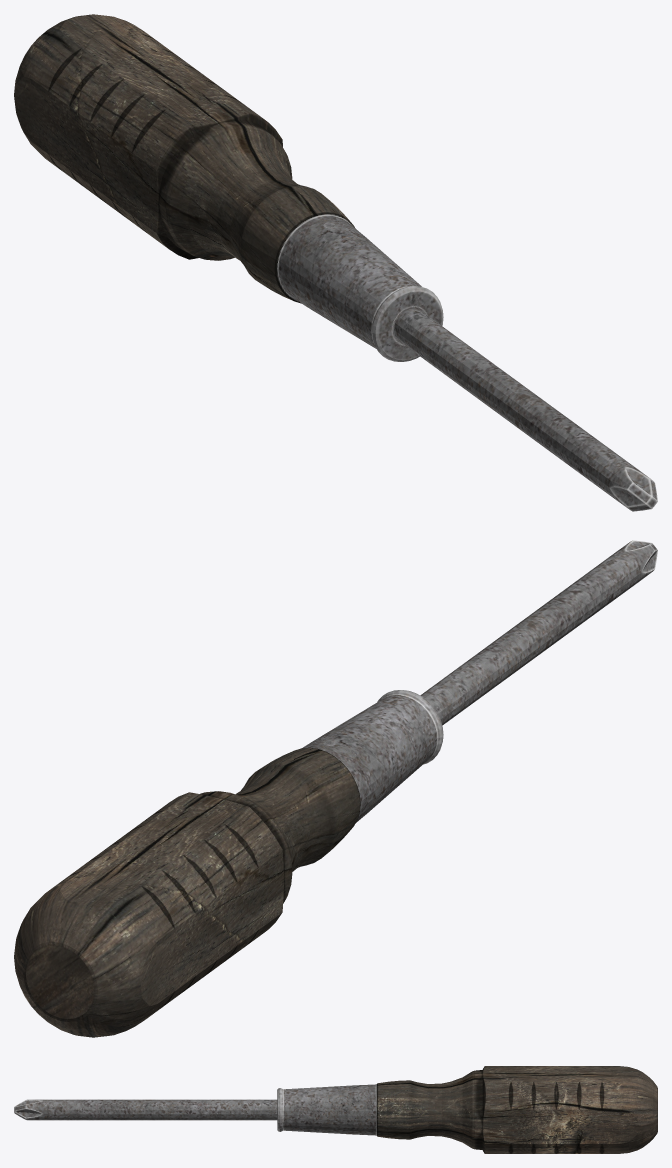
The model's file is workshop_short_phillips_screw.obj.
3 views of the same model, one above another, from view 1: azimuth 30°, elevation 25°; view 2: azimuth 150°, elevation 25°; view 3: azimuth 270°, elevation 25° (orthographic). The views are drawn at different scales.
Size of the model in its own units: 0.00221 by 0.00221 by 0.018.
Materials: 1 (1 with a texture image).
